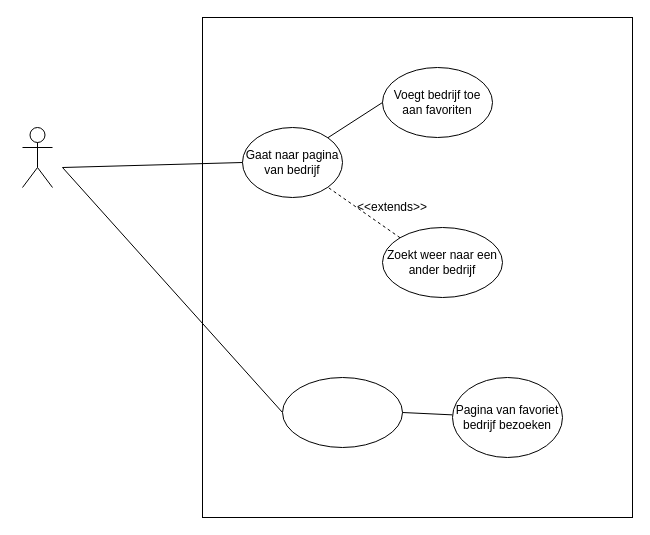
The diagram is 650 pixels wide and 535 high, and some of its shapes have lost their labels. Here are the shapes that lost their labels. From the top down, the box of each, then its label:
(22, 126, 52, 188): Student
(282, 376, 402, 448): Kan lijst bekijken met favoriten
